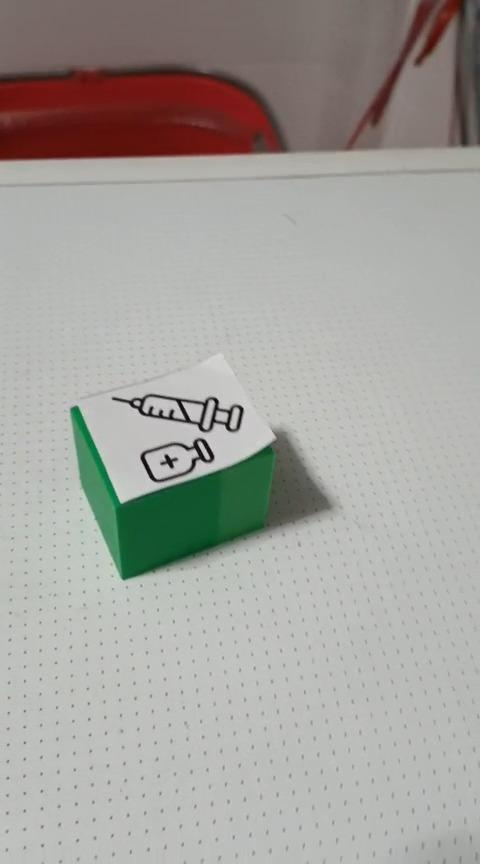antiseptic cream: (68, 351, 278, 580)
